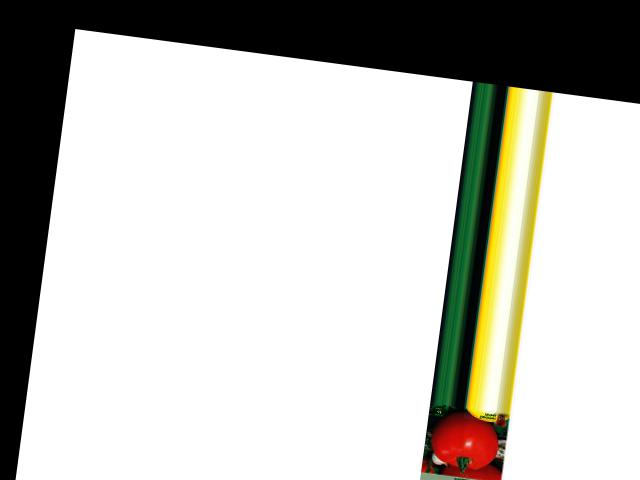tomato: (428, 407, 502, 471)
